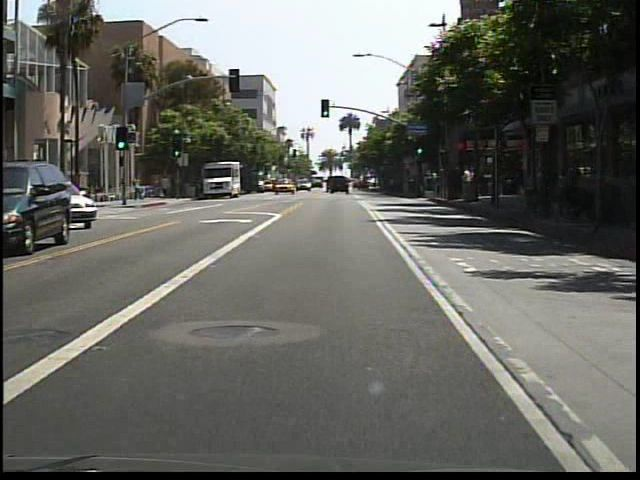person: (133, 171, 146, 204), (161, 172, 174, 200), (152, 175, 165, 198)
